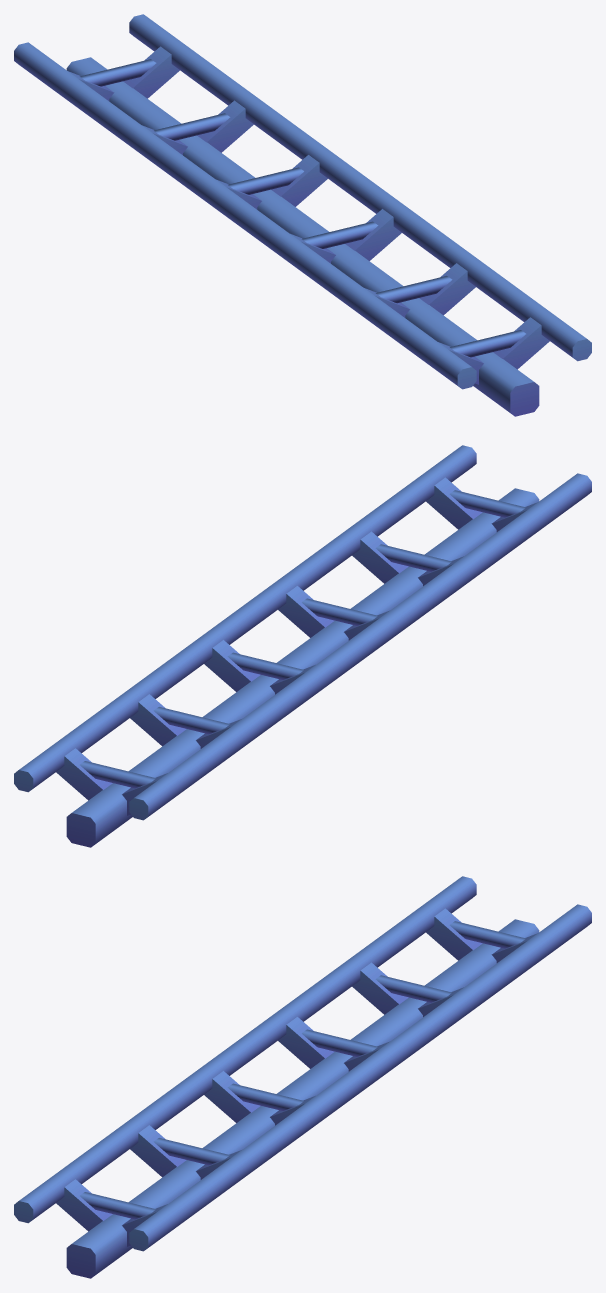
Rendered from coaster-steel-straight.glb.
3 renders of one model, top to bottom at view 1: azimuth 30°, elevation 25°; view 2: azimuth 150°, elevation 25°; view 3: azimuth 330°, elevation 25°, orthographic.
Parts seen in each view (by area): view 1: coaster-steel-straight; view 2: coaster-steel-straight; view 3: coaster-steel-straight.
Part boxes in pixels (x1,y1,x2,y2): coaster-steel-straight: [14, 14, 591, 416]; coaster-steel-straight: [14, 445, 591, 847]; coaster-steel-straight: [14, 876, 591, 1278].
Bounding box in the file's own units: 0.6997 × 0.2998 × 4.
1 material, 1 textured.
